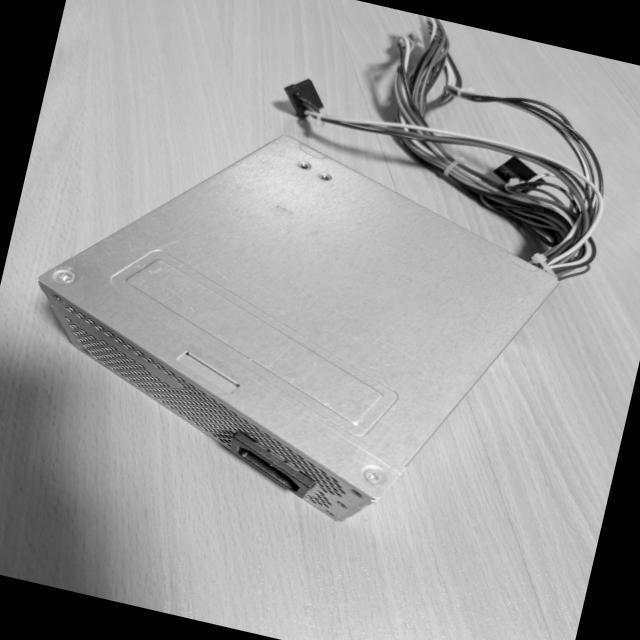PSU: (0, 85, 579, 558)
